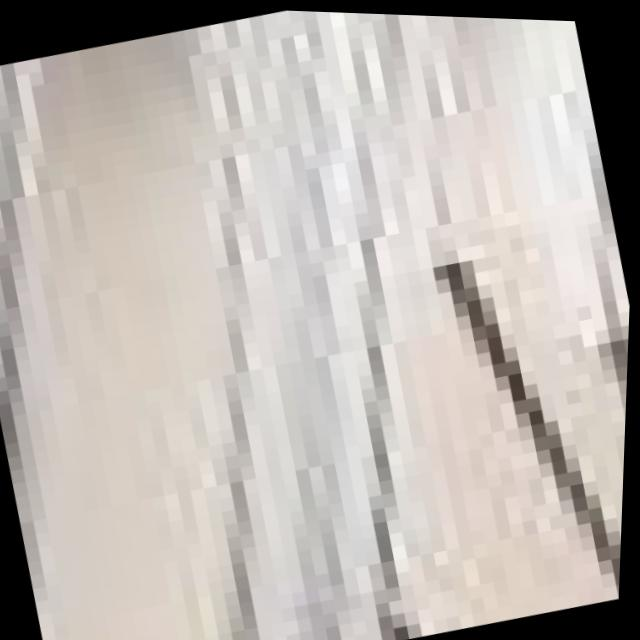metal-plates: (1, 9, 633, 640)
